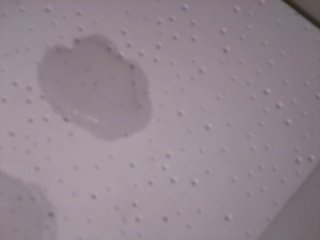Water_detected: (51, 49, 133, 129), (0, 178, 57, 237)
